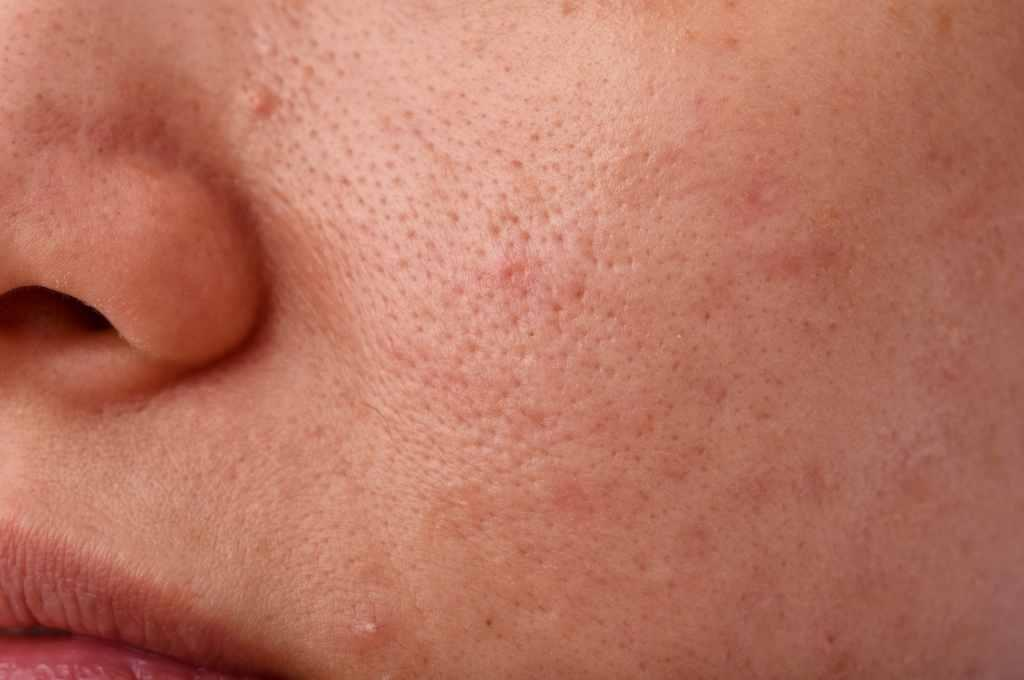Acne: (225, 57, 1024, 680)
